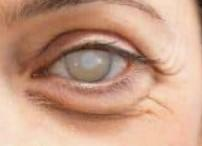eye: (63, 50, 114, 82)
